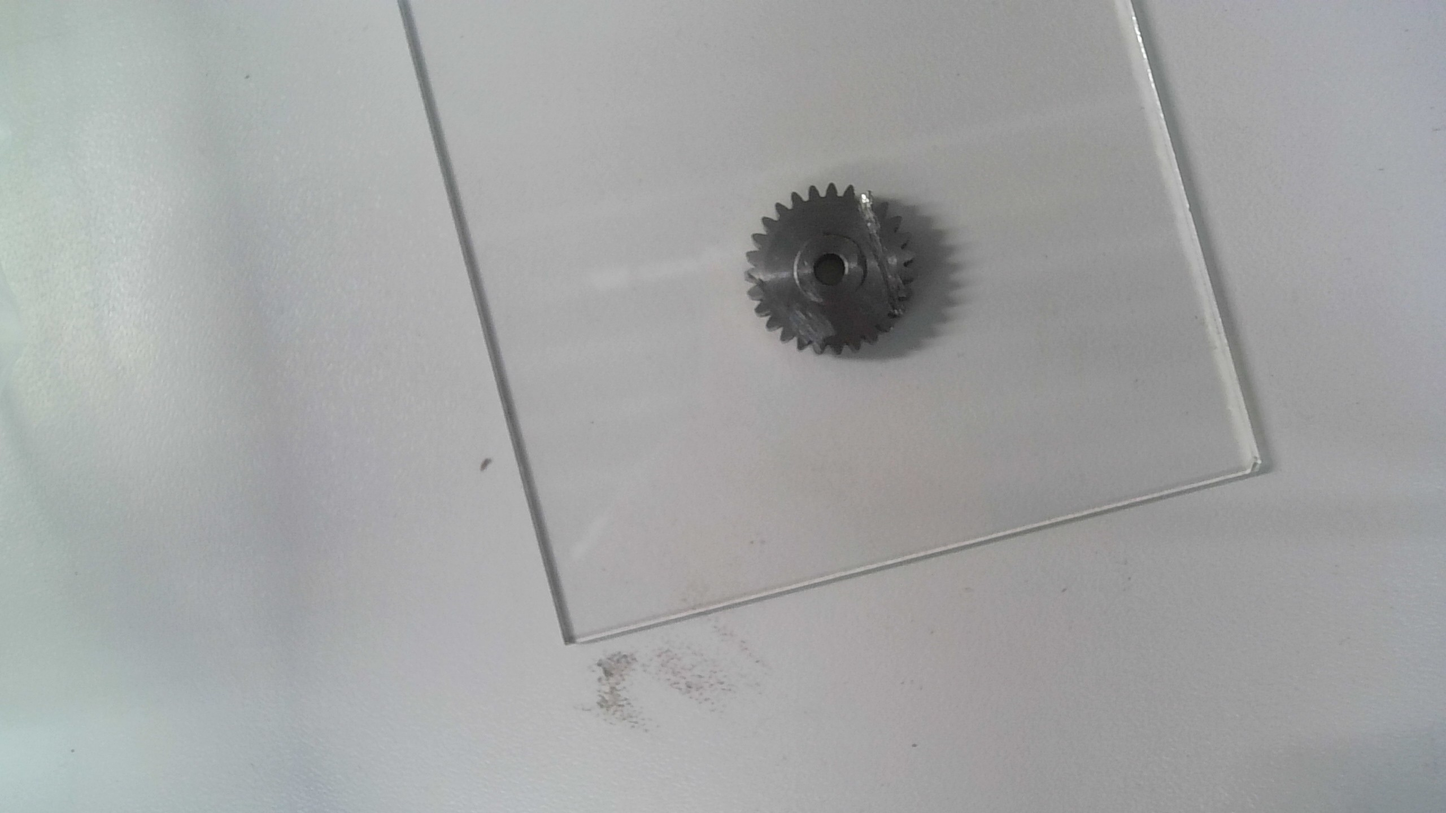gear: (737, 180, 918, 365)
